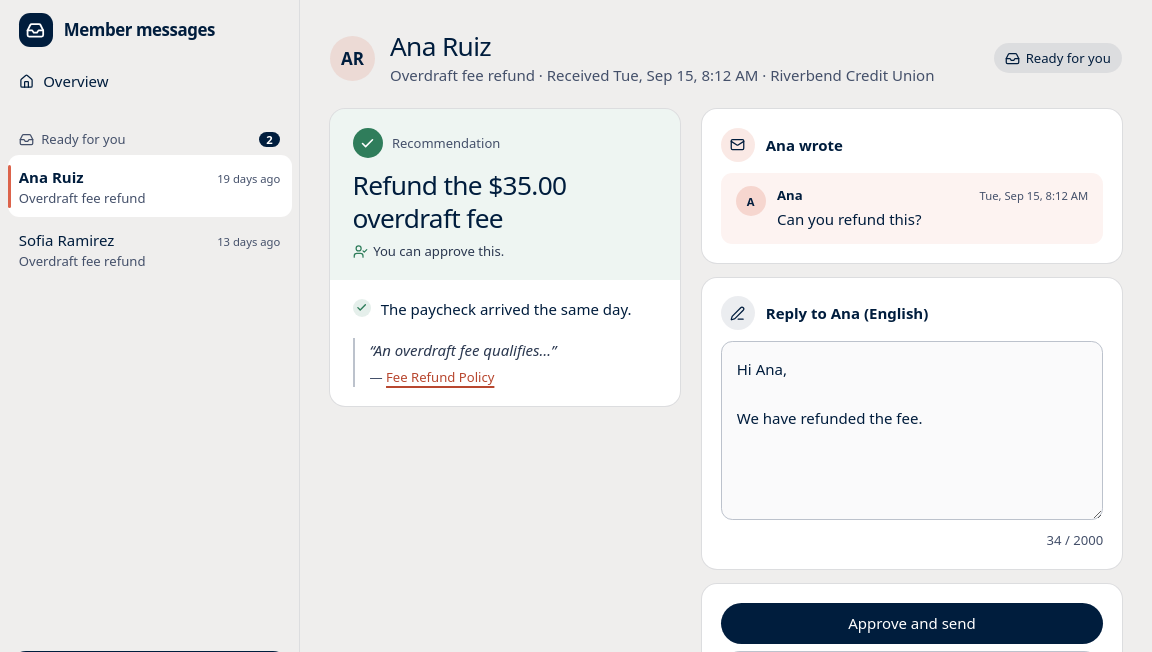
Test: moving between cases › goes back to the overview from the left column
Expected: the heading "Ana Ruiz" is shown, [390,28,491,64]
Click the button "Overview". click: (76, 81)
box: [8,60,292,103]
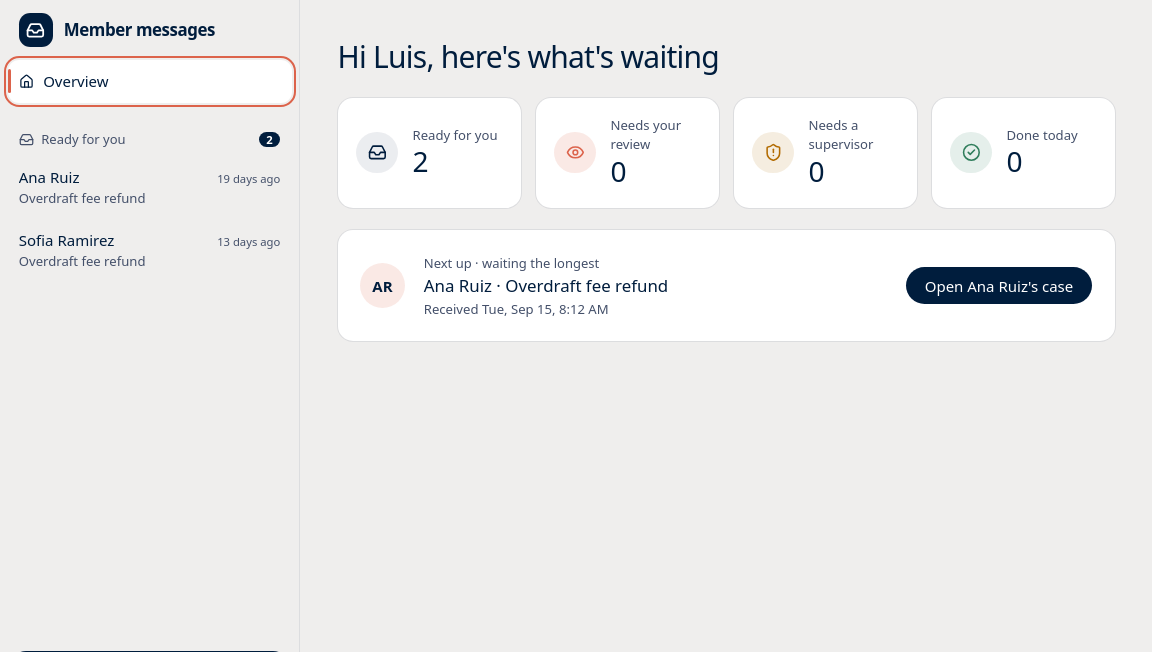
Expected: the heading "Hi Luis, here's what's waiting" is shown, [338,36,719,76]
